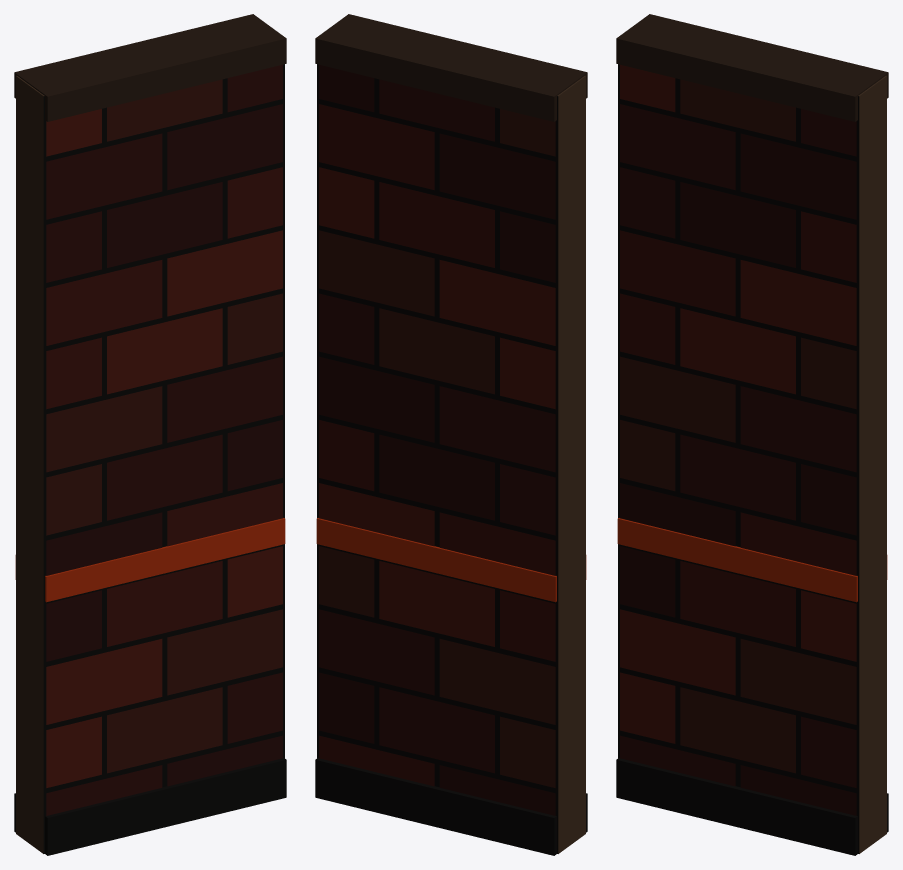
File: SM_Wall_1x3_Hideout.glb
The picture shows the model from 3 angles, left to right: view 1: azimuth 30°, elevation 25°; view 2: azimuth 150°, elevation 25°; view 3: azimuth 330°, elevation 25°; orthographic projection.
Parts seen in each view (by area): view 1: SM_Wall_1x3_Hideout-col; view 2: SM_Wall_1x3_Hideout-col; view 3: SM_Wall_1x3_Hideout-col.
Part boxes in pixels (box(x1,y1,x2,y2)): SM_Wall_1x3_Hideout-col: box(14, 14, 286, 855); SM_Wall_1x3_Hideout-col: box(315, 14, 587, 855); SM_Wall_1x3_Hideout-col: box(616, 14, 888, 855).
Size of the model in its own units: 1 by 3 by 0.24.
